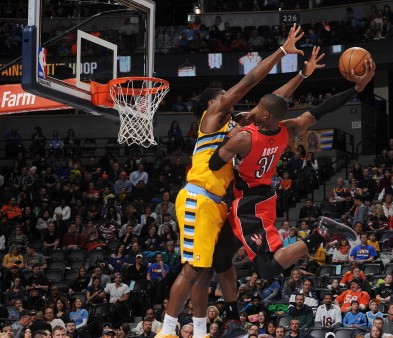basket: (105, 70, 171, 152)
block: (170, 14, 329, 338)
shoot: (234, 33, 378, 279)
